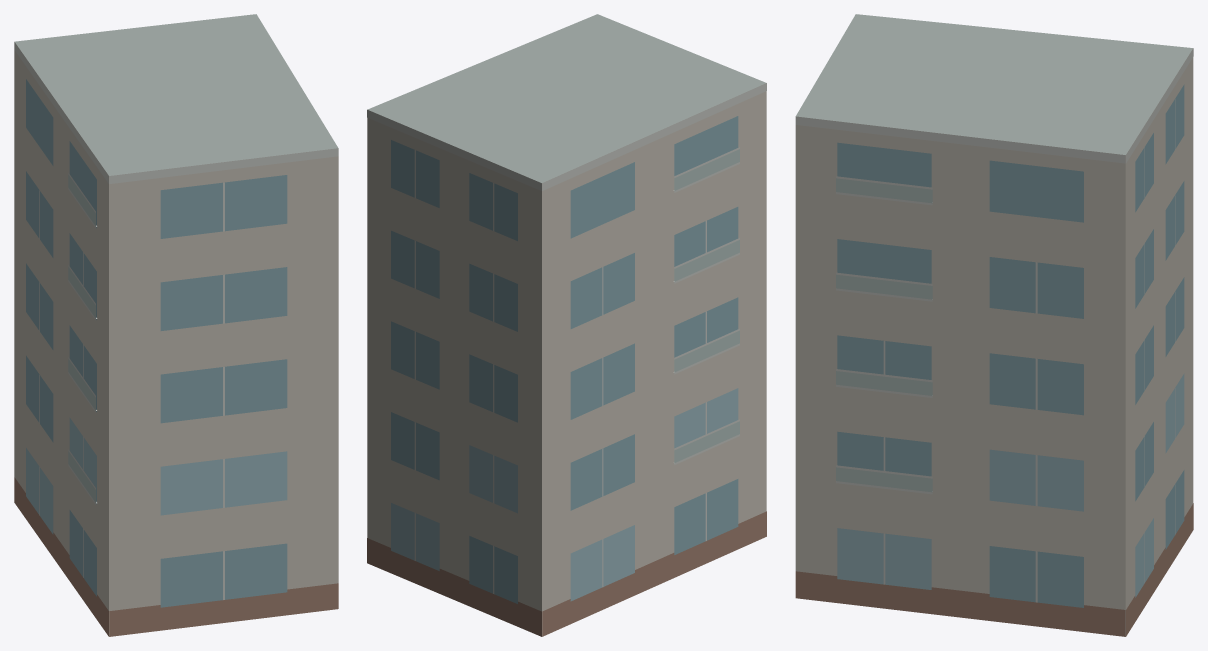
The model's file is survey-upis-33047040.glb.
3 views of the same model, side by side, from view 1: azimuth 30°, elevation 25°; view 2: azimuth 150°, elevation 25°; view 3: azimuth 270°, elevation 25° (orthographic). The views are drawn at different scales.
Parts seen in each view (by area): view 1: survey-upis-33047040.tmp; view 2: survey-upis-33047040.tmp; view 3: survey-upis-33047040.tmp.
Boxes of the visible parts, <box> form: survey-upis-33047040.tmp: <box>14,14,338,636</box>; survey-upis-33047040.tmp: <box>367,14,766,636</box>; survey-upis-33047040.tmp: <box>795,14,1193,636</box>.
Bounding box in the file's own units: 8.68 × 13.8 × 10.34.
